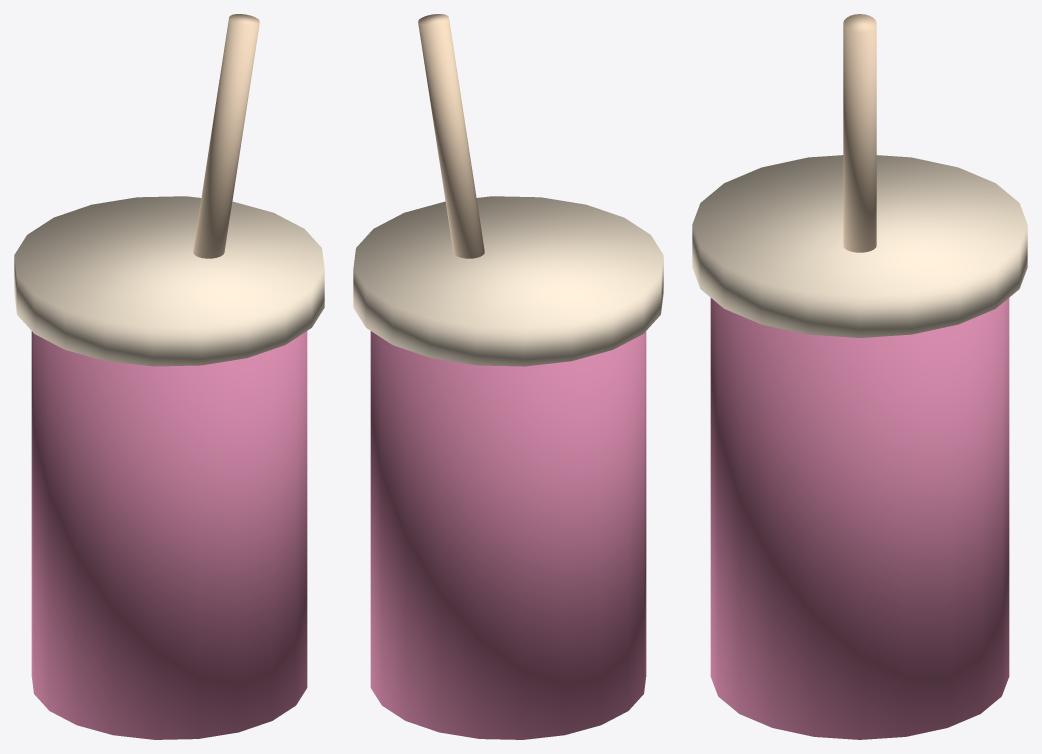
File: drink.glb
3 renders of one model, left to right at view 1: azimuth 30°, elevation 25°; view 2: azimuth 150°, elevation 25°; view 3: azimuth 270°, elevation 25°, orthographic. The views are drawn at different scales.
Visible parts, largest first — view 1: Cup, Lid, Straw; view 2: Cup, Lid, Straw; view 3: Cup, Lid, Straw.
Boxes of the visible parts, x1,y1,x2,y2 form: Cup: (31, 331, 307, 739); Lid: (14, 196, 324, 366); Straw: (193, 14, 259, 258); Cup: (370, 331, 646, 739); Lid: (353, 196, 663, 366); Straw: (418, 14, 484, 258); Cup: (710, 298, 1009, 739); Lid: (692, 155, 1027, 337); Straw: (843, 14, 876, 252).
Size of the model in its own units: 0.36 by 0.823 by 0.36.
